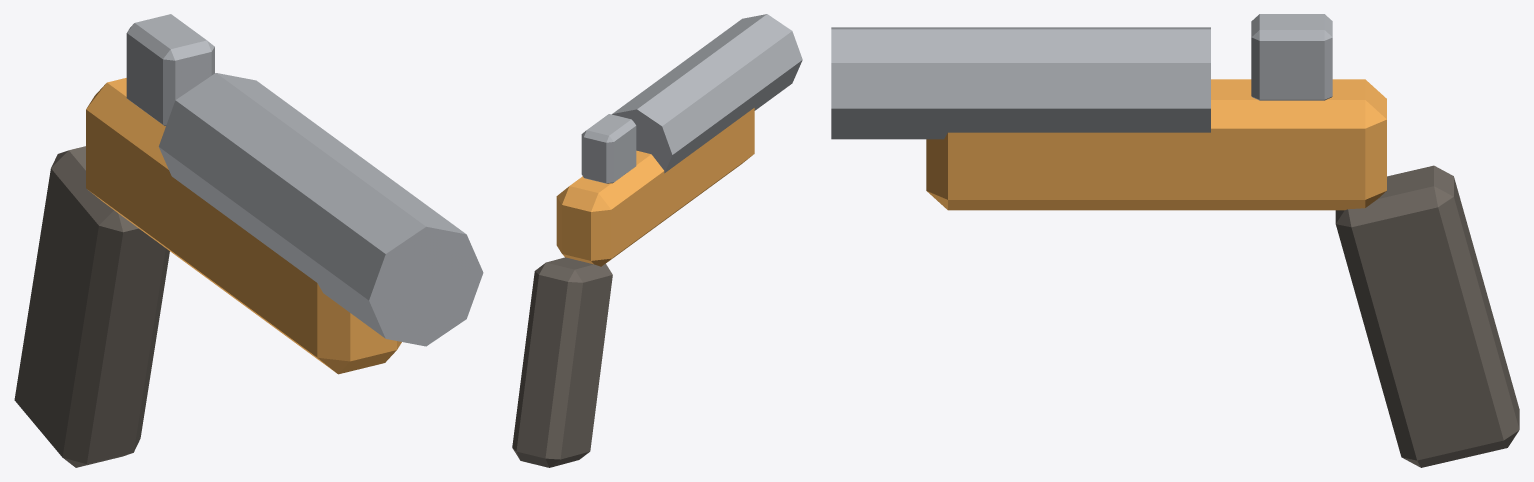
Rendered from flare_pistol.glb.
3 renders of one model, left to right at view 1: azimuth 30°, elevation 25°; view 2: azimuth 150°, elevation 25°; view 3: azimuth 270°, elevation 25°, orthographic. The views are drawn at different scales.
Parts seen in each view (by area): view 1: Tool_flare_pistol; view 2: Tool_flare_pistol; view 3: Tool_flare_pistol.
Boxes of the visible parts, x1,y1,x2,y2 form: Tool_flare_pistol: [14, 14, 483, 467]; Tool_flare_pistol: [512, 14, 802, 467]; Tool_flare_pistol: [831, 14, 1519, 467].
Size of the model in its own units: 0.044 by 0.1774 by 0.2539.
